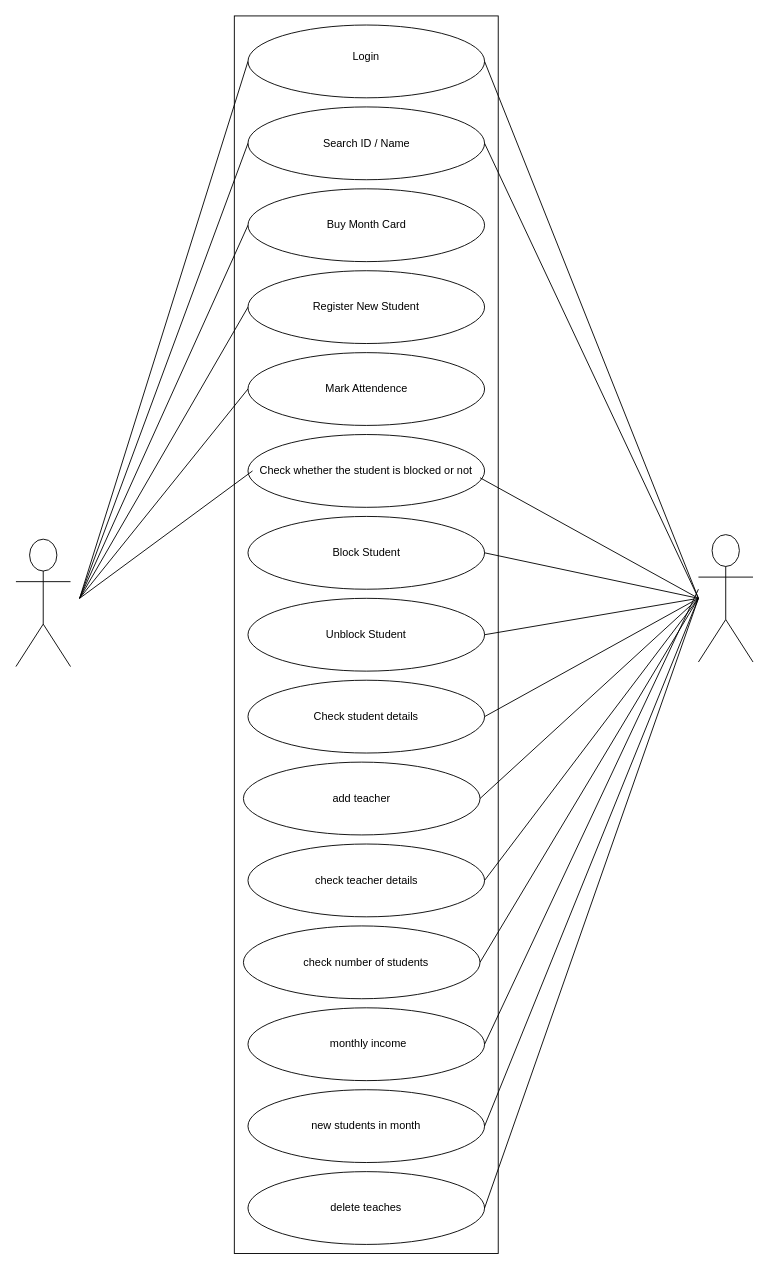
Image size: 769x1269. Some labels were removed from this diagram. The centre of each missing label's shape, as x and y in pixels:
"Admin" belongs at [725,598].
"Cashier" belongs at [43,602].
